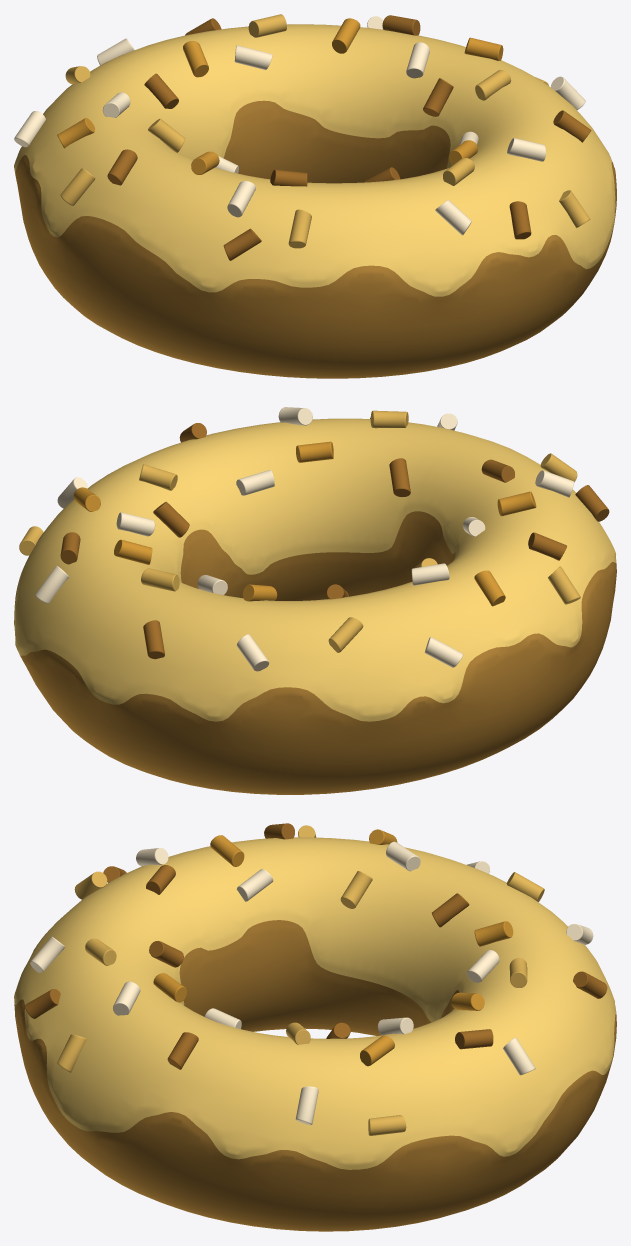
The model's file is Donynutty.glb.
3 views of the same model, one above another, from view 1: azimuth 30°, elevation 25°; view 2: azimuth 150°, elevation 25°; view 3: azimuth 270°, elevation 25° (orthographic).
Parts seen in each view (by area): view 1: Icing, Bottom, White sprinklers, Dark brown sprinkles, Light brown sprinkles, Brown sprinkles; view 2: Icing, Bottom, White sprinklers, Dark brown sprinkles, Light brown sprinkles, Brown sprinkles; view 3: Icing, Bottom, White sprinklers, Dark brown sprinkles, Light brown sprinkles, Brown sprinkles.
Boxes of the visible parts, x1,y1,x2,y2 form: Icing: [14, 24, 615, 296]; Bottom: [15, 100, 616, 378]; White sprinklers: [14, 16, 585, 235]; Dark brown sprinkles: [107, 15, 591, 260]; Light brown sprinkles: [60, 14, 590, 248]; Brown sprinkles: [57, 18, 503, 174]; Icing: [14, 418, 616, 721]; Bottom: [14, 511, 616, 794]; White sprinklers: [35, 407, 574, 671]; Dark brown sprinkles: [60, 418, 609, 659]; Light brown sprinkles: [19, 410, 580, 652]; Brown sprinkles: [73, 441, 536, 606]; Icing: [14, 837, 616, 1169]; Bottom: [14, 920, 616, 1231]; White sprinklers: [30, 841, 593, 1125]; Dark brown sprinkles: [25, 823, 607, 1069]; Light brown sprinkles: [57, 825, 544, 1135]; Brown sprinkles: [153, 829, 513, 1066].
Bounding box in the file's own units: 0.1574 × 0.0635 × 0.1569.
